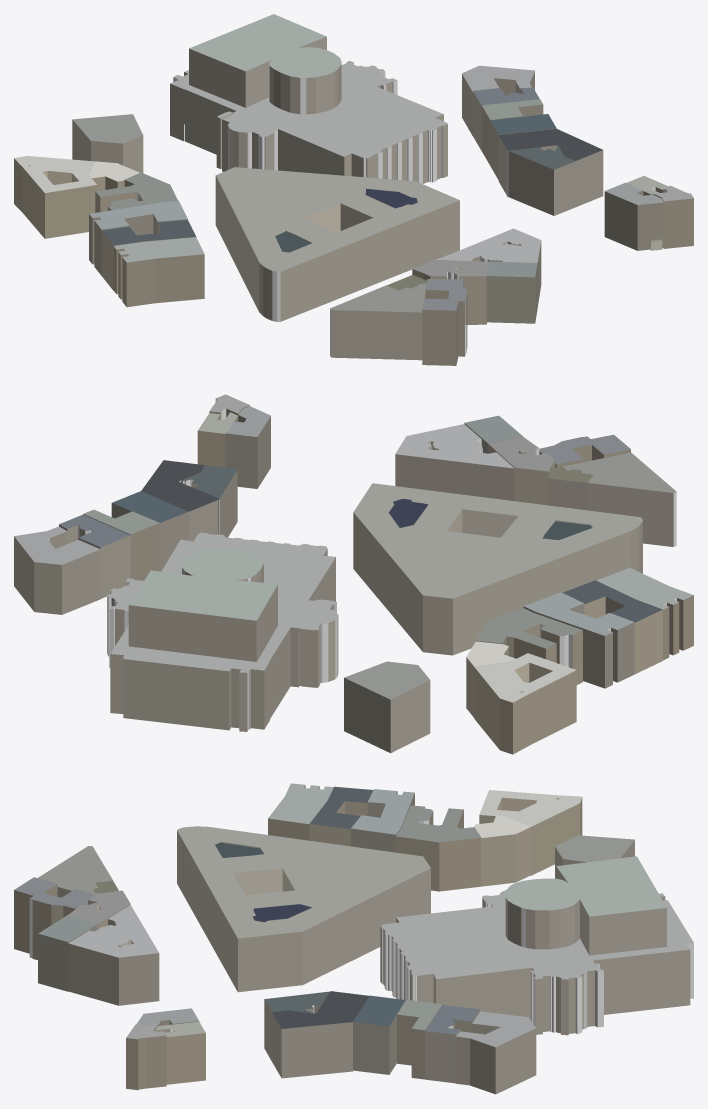
3 renders of one model, top to bottom at view 1: azimuth 30°, elevation 25°; view 2: azimuth 150°, elevation 25°; view 3: azimuth 270°, elevation 25°, orthographic. The views are drawn at different scales.
Visible parts, largest first — view 1: tuile; view 2: tuile; view 3: tuile.
Part boxes in pixels (x1=…): tuile: x1=14, y1=14, x2=693, y2=365; tuile: x1=14, y1=394, x2=693, y2=754; tuile: x1=14, y1=783, x2=693, y2=1094.
Bounding box in the file's own units: 281 × 52.5 × 307.
